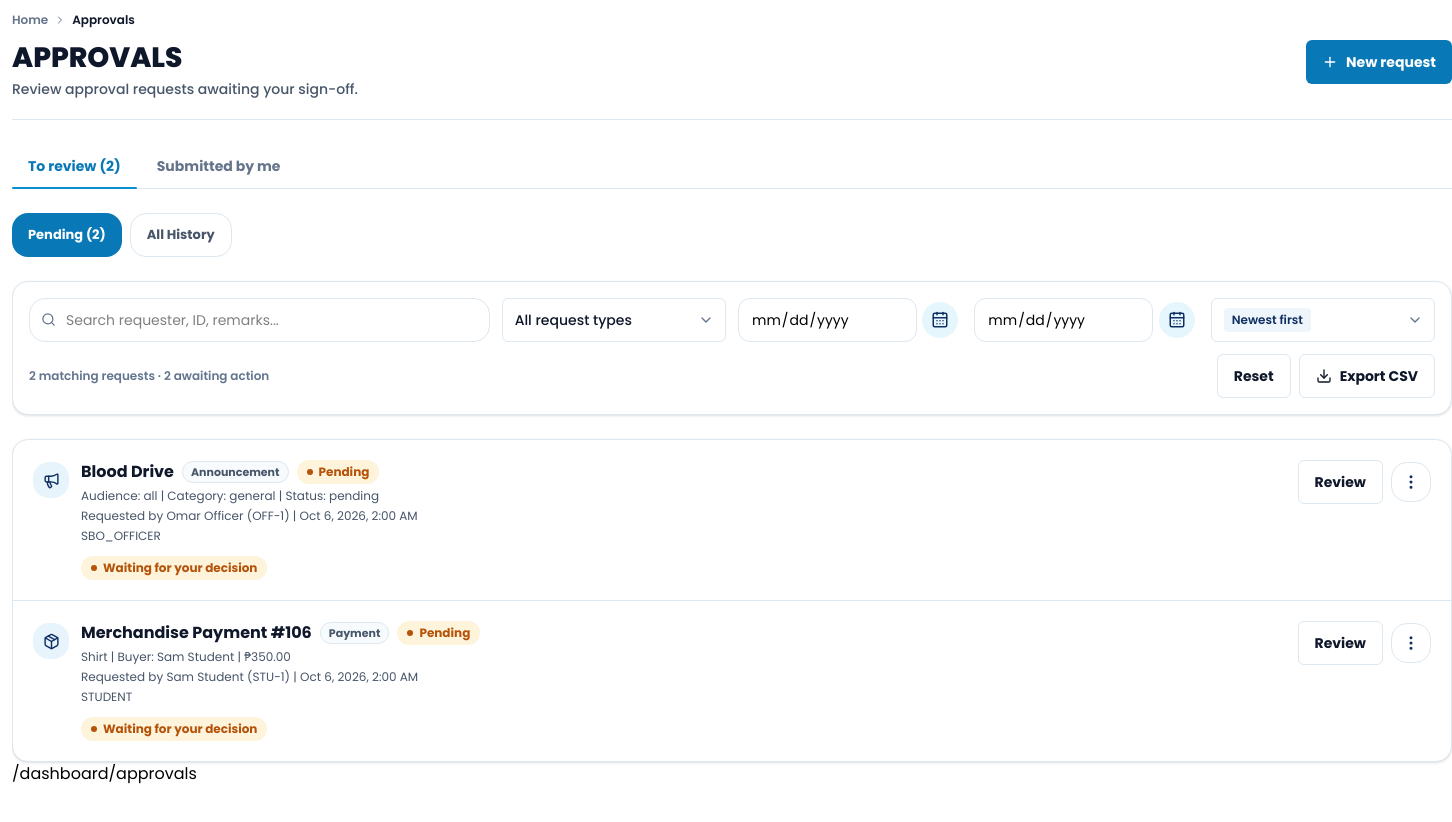
Test case: DepartmentHeadApprovalsPage for the Admin › offers to clear filters when the filters hide everything
This screenshot has width=1452, height=822.
Expected: the text "Blood Drive" is shown, [81, 460, 174, 484]
Type "zzz" into the field with placeholder "Search requester, ID, remarks..." at (259, 320), box [29, 298, 490, 342]
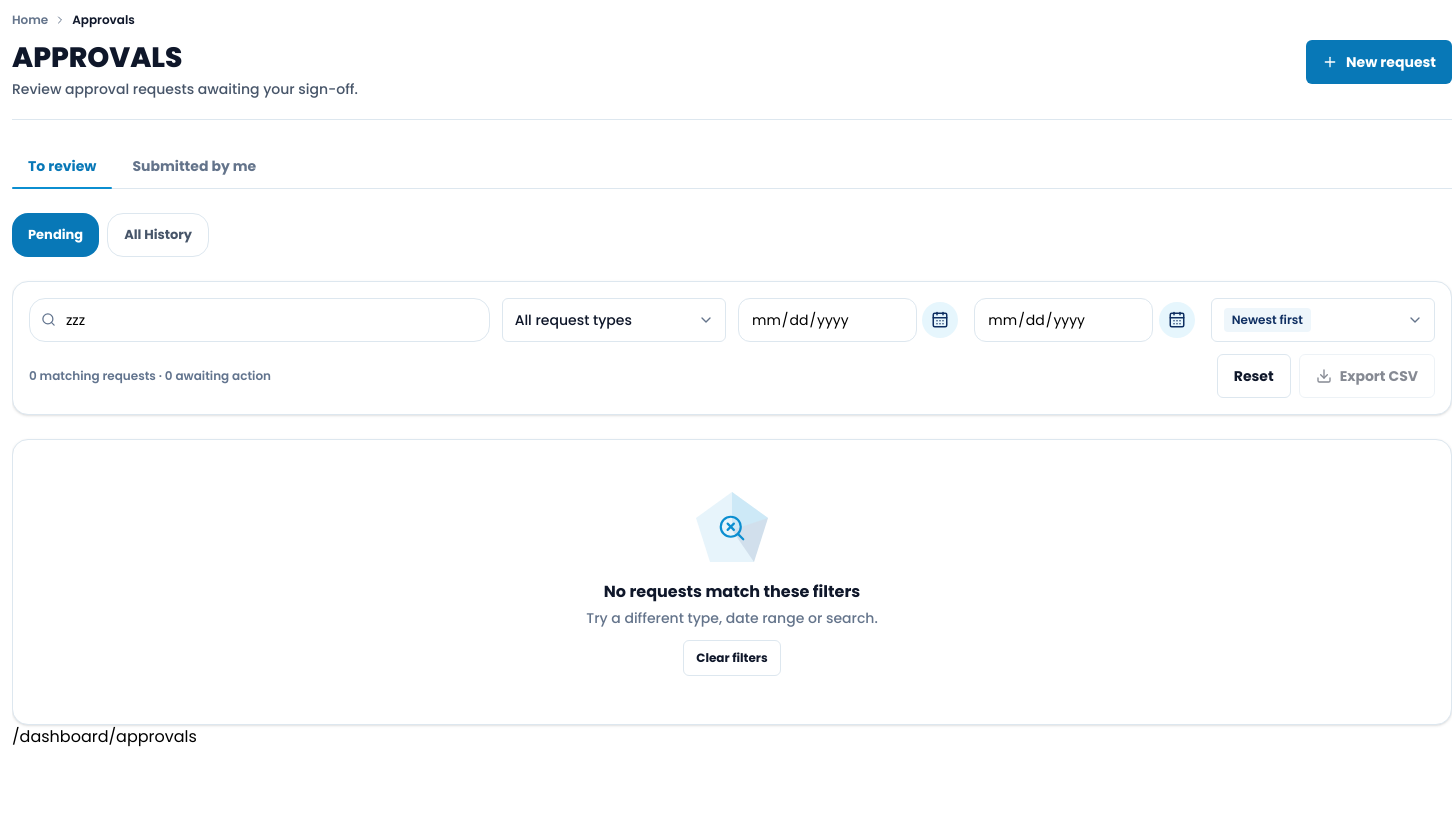
Now the text "No requests match these filters" is shown, box [586, 580, 878, 604]
Click the button "Clear filters" at (732, 658), box [683, 640, 781, 676]
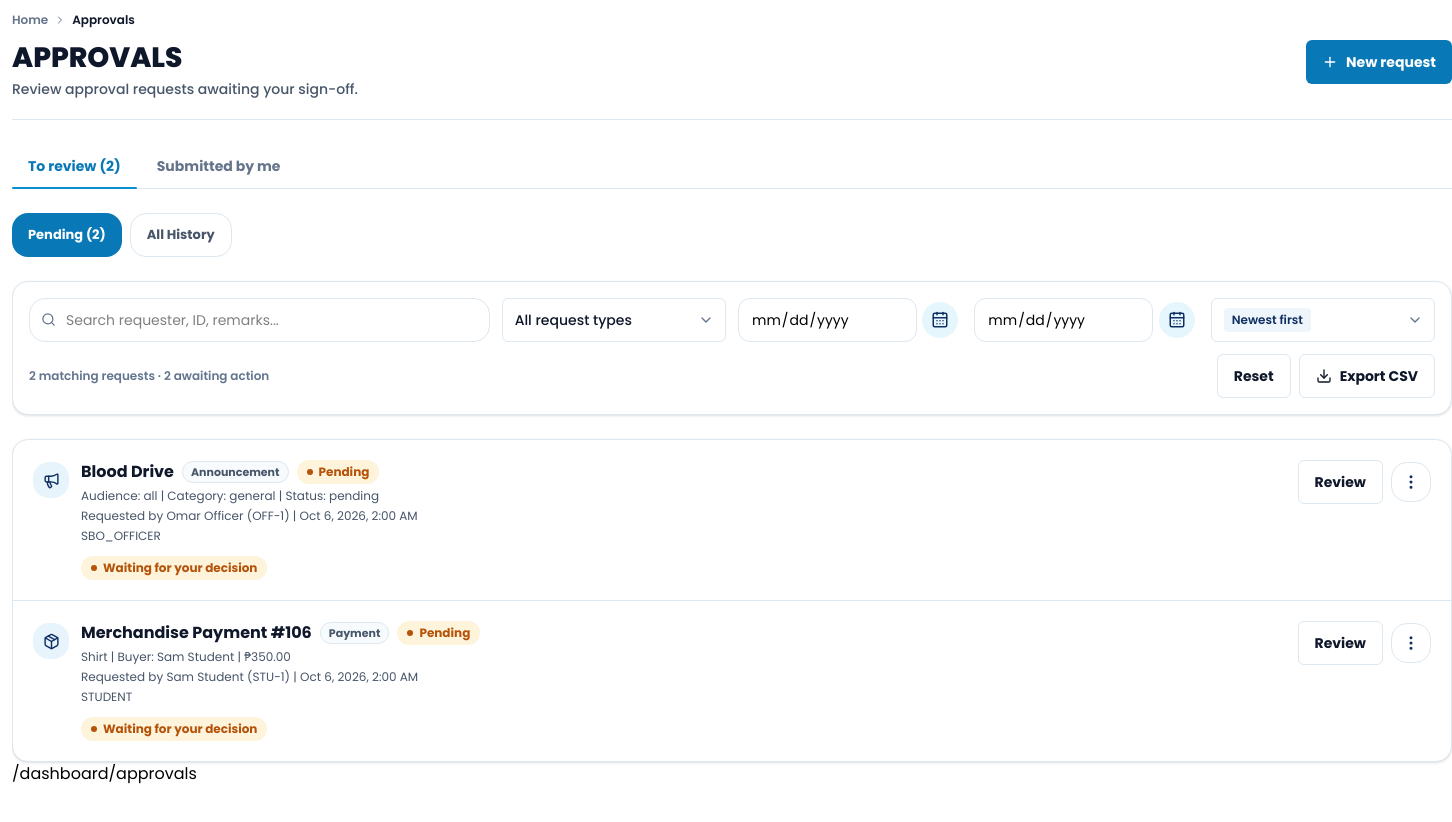
Now the text "Blood Drive" is shown, box [81, 460, 174, 484]
Now the field named "Search requests" is empty, box [29, 298, 490, 342]
